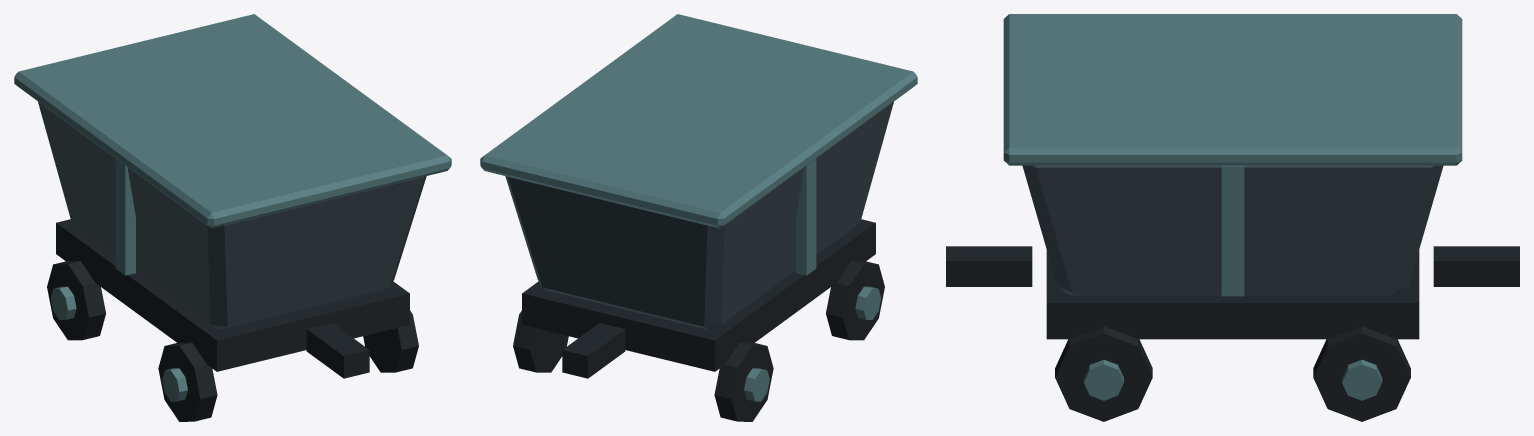
The model's file is Env_Cart.fbx.
The picture shows the model from 3 angles, left to right: view 1: azimuth 30°, elevation 25°; view 2: azimuth 150°, elevation 25°; view 3: azimuth 270°, elevation 25°; orthographic projection. The views are drawn at different scales.
Parts seen in each view (by area): view 1: Env_Cart; view 2: Env_Cart; view 3: Env_Cart.
Boxes of the visible parts, box(x1,y1,x2,y2) form: Env_Cart: box(14, 14, 451, 421); Env_Cart: box(480, 14, 917, 421); Env_Cart: box(946, 14, 1519, 421).
Size of the model in its own units: 1.14 by 2 by 1.07.
